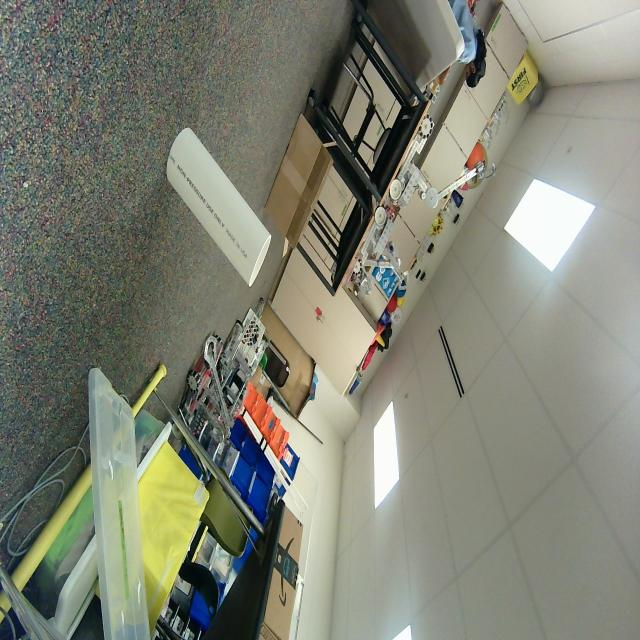coral: (167, 129, 271, 286)
